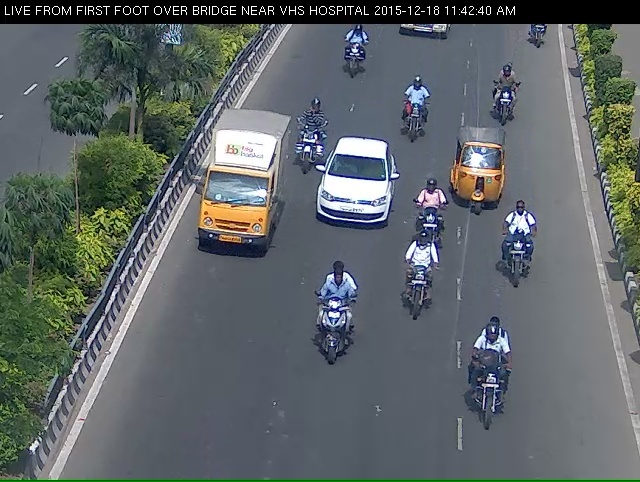Auto: (203, 118, 287, 269), (452, 136, 509, 225)
Car: (314, 145, 400, 250)
Person: (464, 346, 518, 467), (309, 273, 356, 402), (498, 236, 537, 317), (408, 206, 449, 275), (397, 93, 430, 157), (403, 269, 428, 348), (288, 121, 317, 188), (524, 15, 559, 60), (497, 77, 521, 141), (339, 39, 366, 89)
